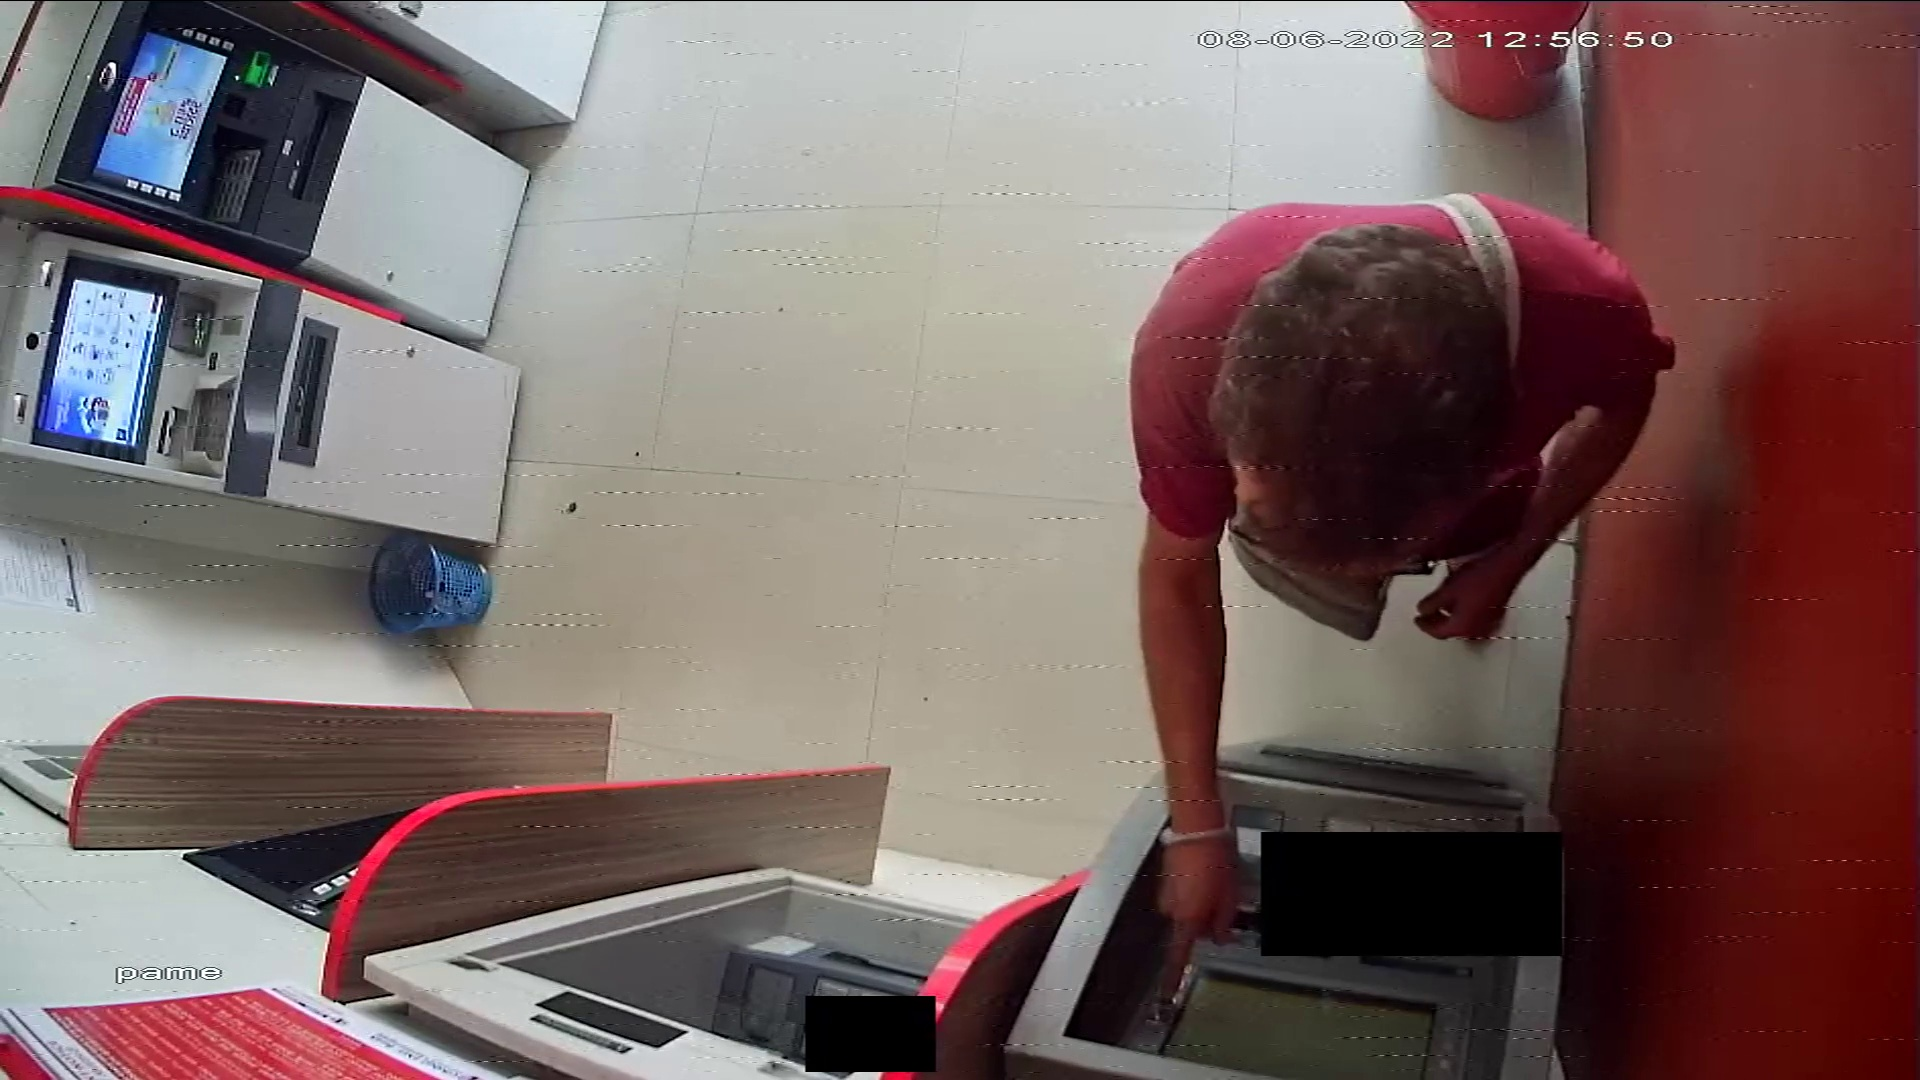person: (1127, 193, 1668, 993)
